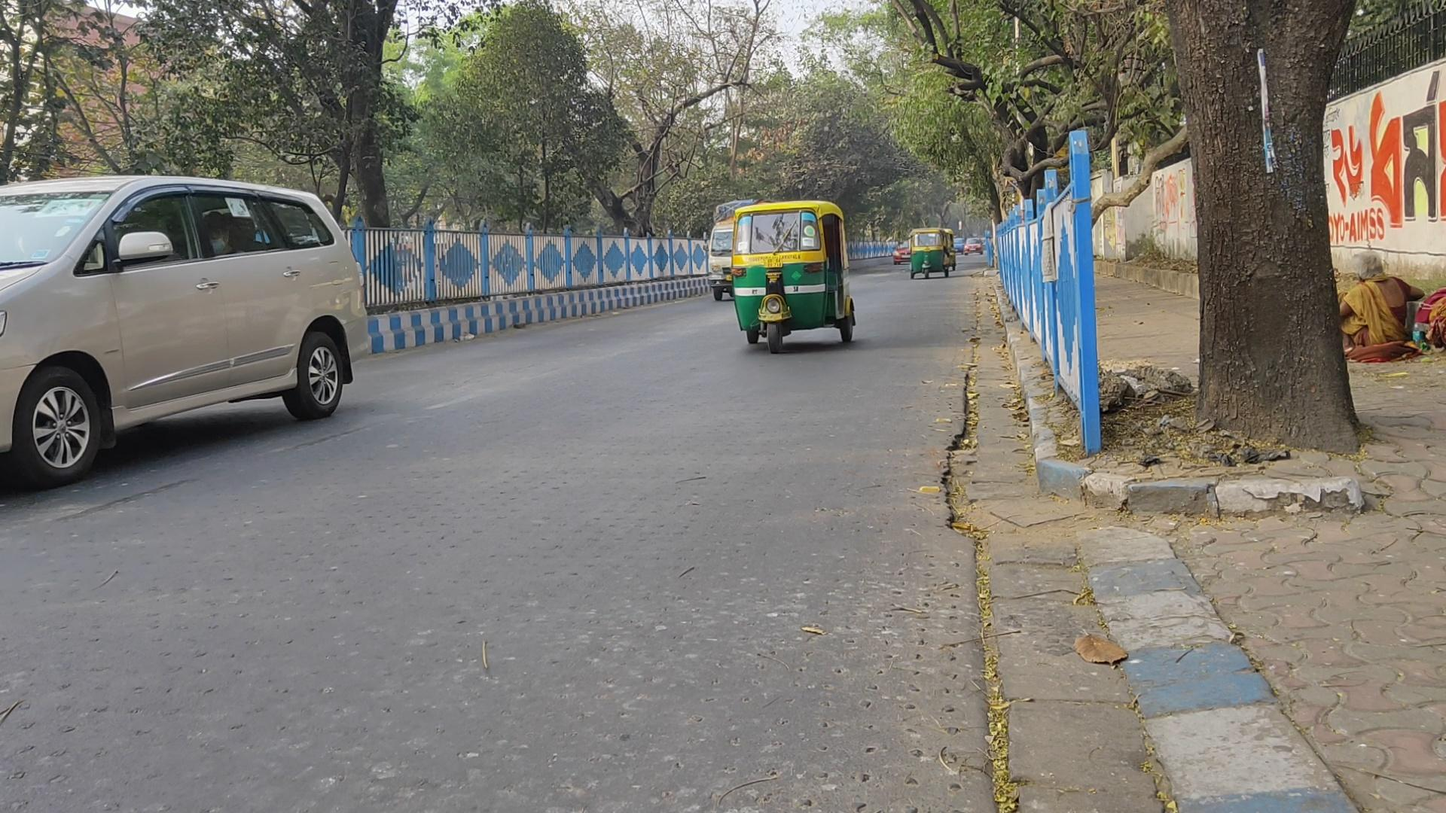Auto: (731, 200, 857, 355), (908, 227, 951, 281)
car: (2, 173, 369, 487), (892, 239, 917, 266), (964, 236, 984, 257)
van: (707, 199, 786, 302)
